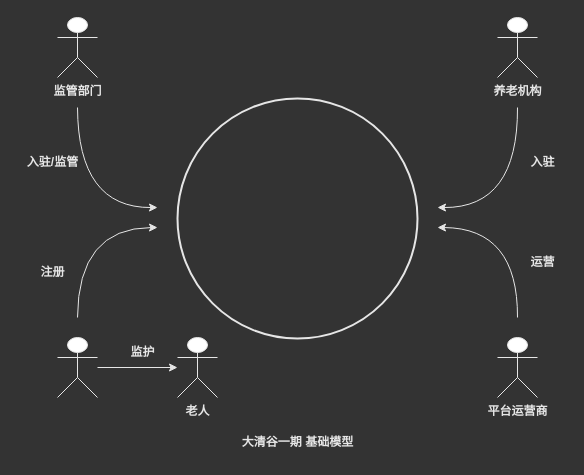
Some shapes in this 584 by 475 pixel diagram are drawn without their labels. The centre of each missing label's shape, as x and y in pixels:
大清谷疗养云: the point at 297,218
家属: the point at 77,367
